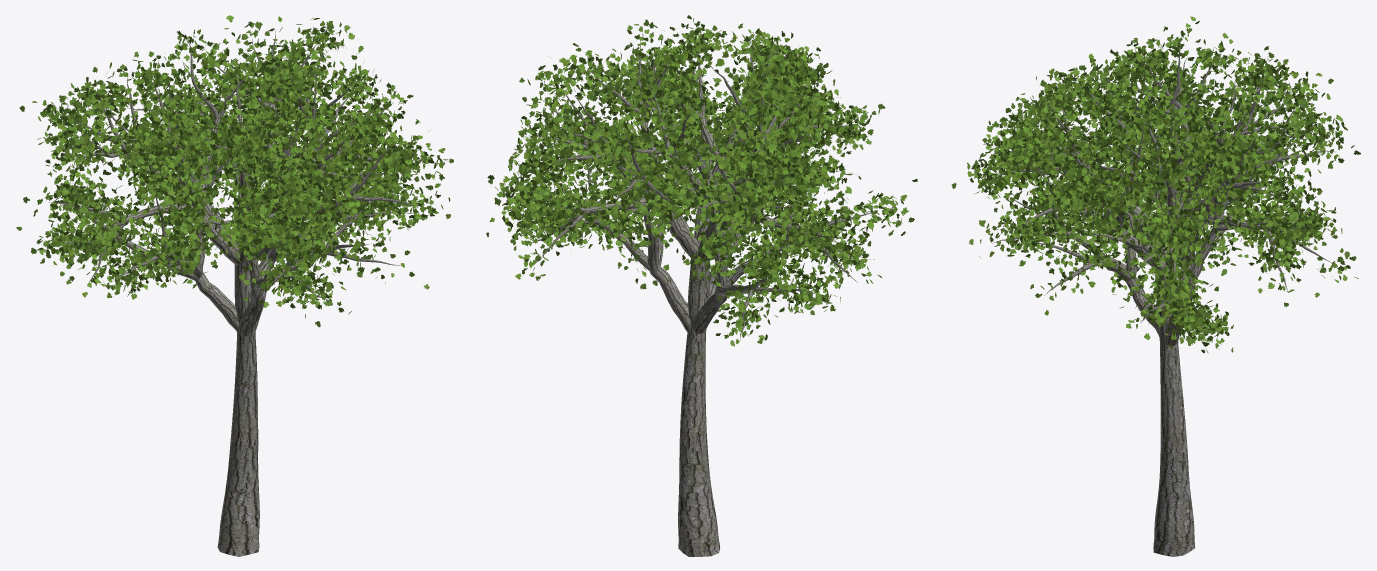
File: ash_easytree_v019.glb
3 renders of one model, left to right at view 1: azimuth 30°, elevation 25°; view 2: azimuth 150°, elevation 25°; view 3: azimuth 270°, elevation 25°, orthographic. The views are drawn at different scales.
Parts seen in each view (by area): view 1: Fresno foliage cards, Fresno_EasyTree_V019_Proof; view 2: Fresno foliage cards, Fresno_EasyTree_V019_Proof; view 3: Fresno foliage cards, Fresno_EasyTree_V019_Proof.
Part boxes in pixels (x1,y1,x2,y2): Fresno foliage cards: [16, 15, 453, 327]; Fresno_EasyTree_V019_Proof: [49, 30, 424, 556]; Fresno foliage cards: [486, 15, 917, 346]; Fresno_EasyTree_V019_Proof: [516, 39, 877, 556]; Fresno foliage cards: [951, 16, 1360, 352]; Fresno_EasyTree_V019_Proof: [992, 44, 1334, 556].
Size of the model in its own units: 7.63 by 9.68 by 7.26.
2 materials, 2 textured.
